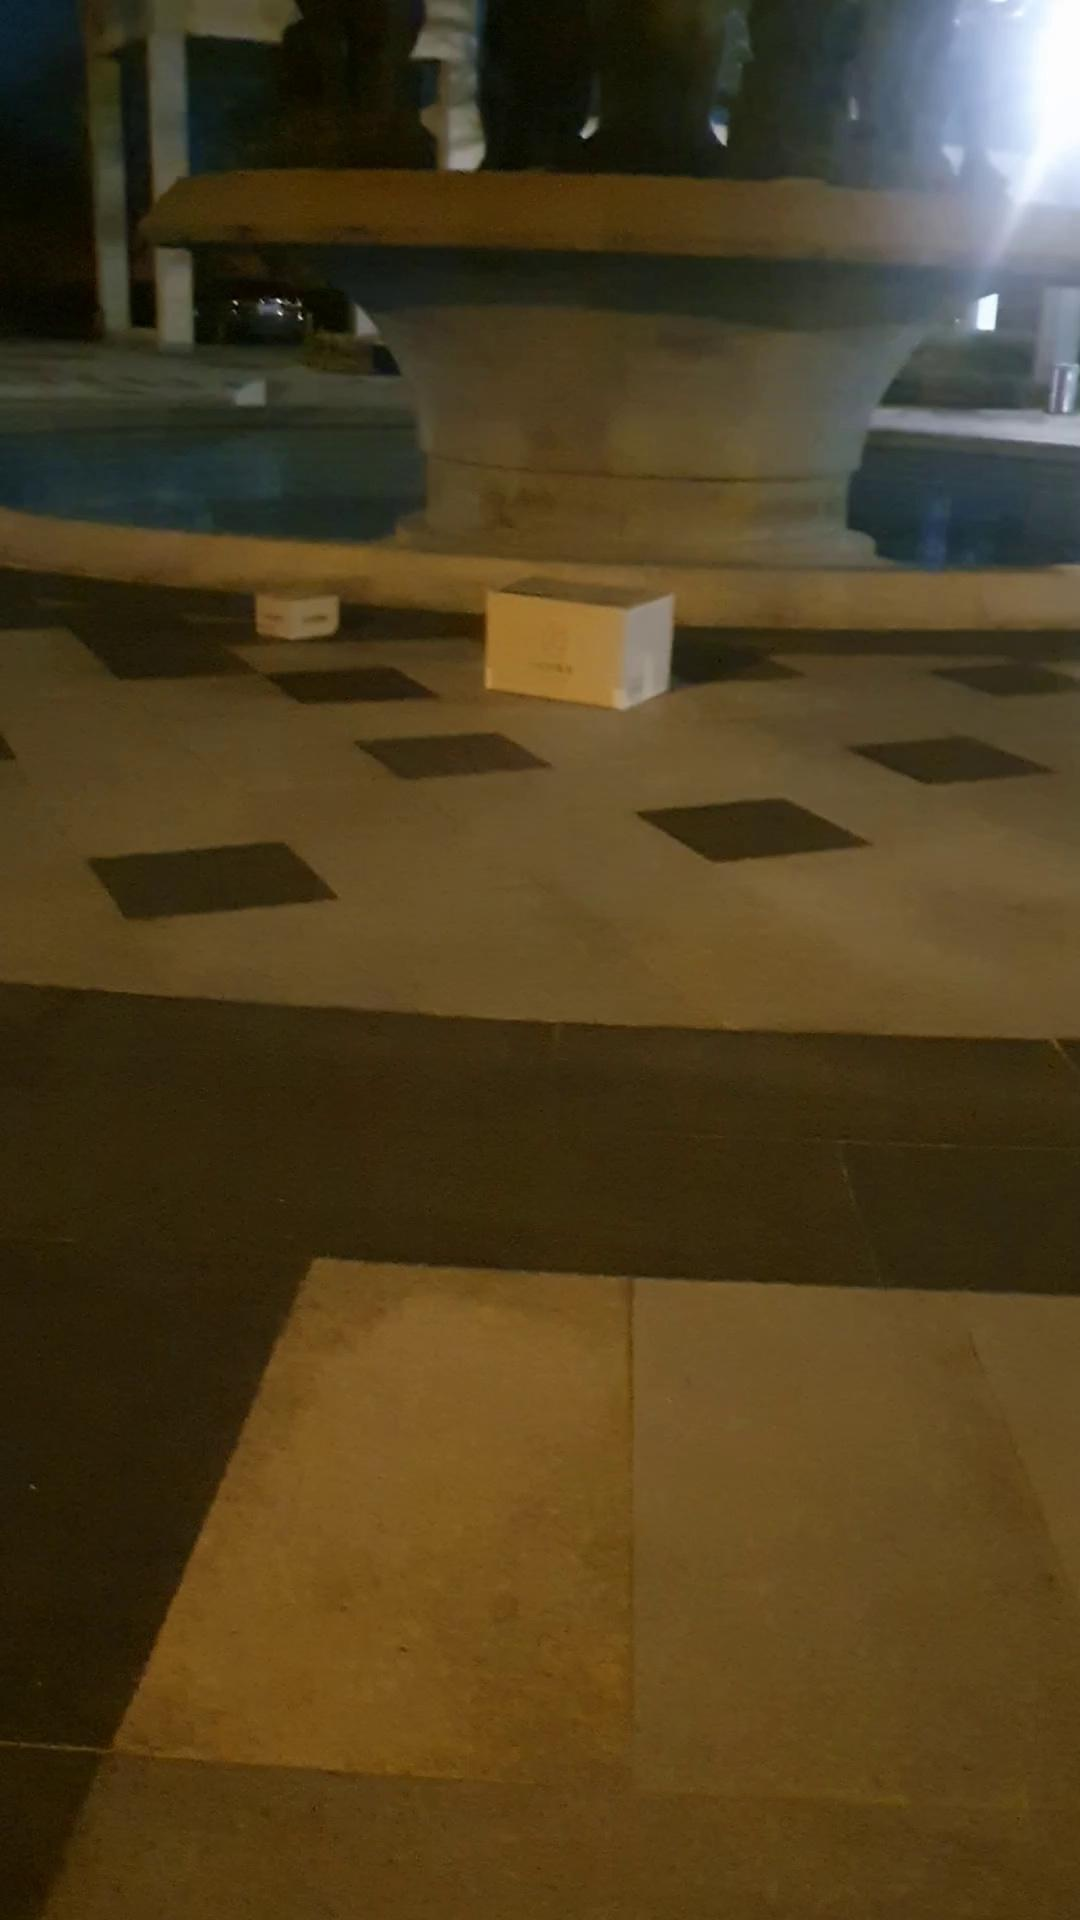Box: (481, 578, 676, 715), (251, 580, 334, 642)
